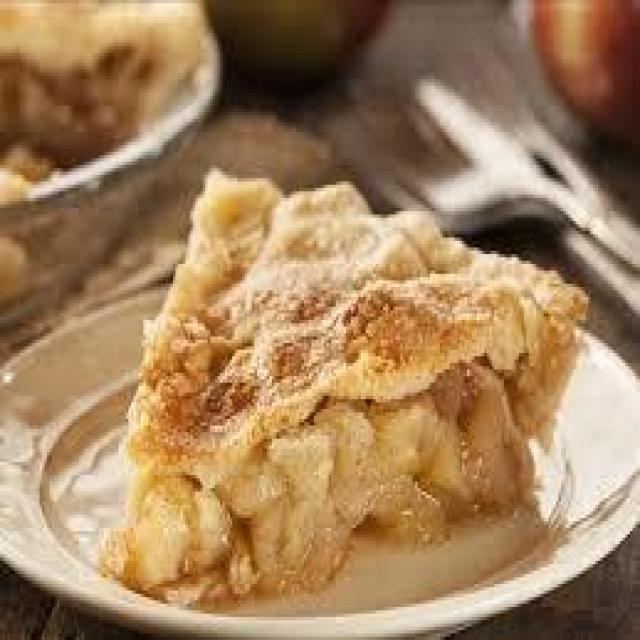damaged_apple: (499, 3, 633, 155)
